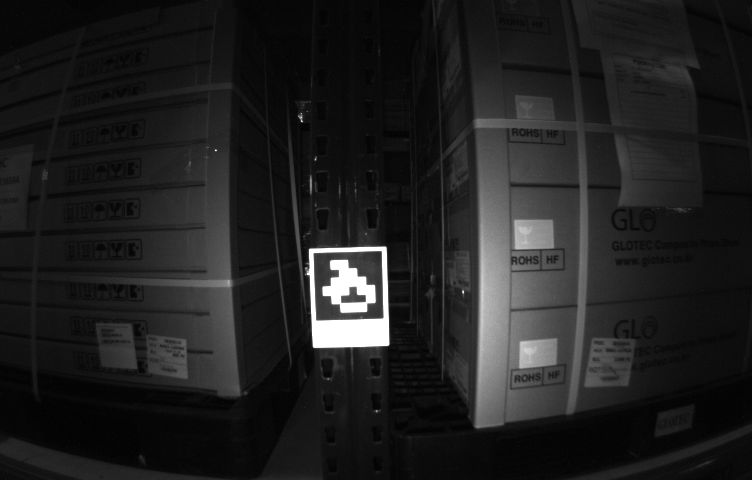True Barcode: (589, 337, 633, 390), (144, 333, 187, 377)
